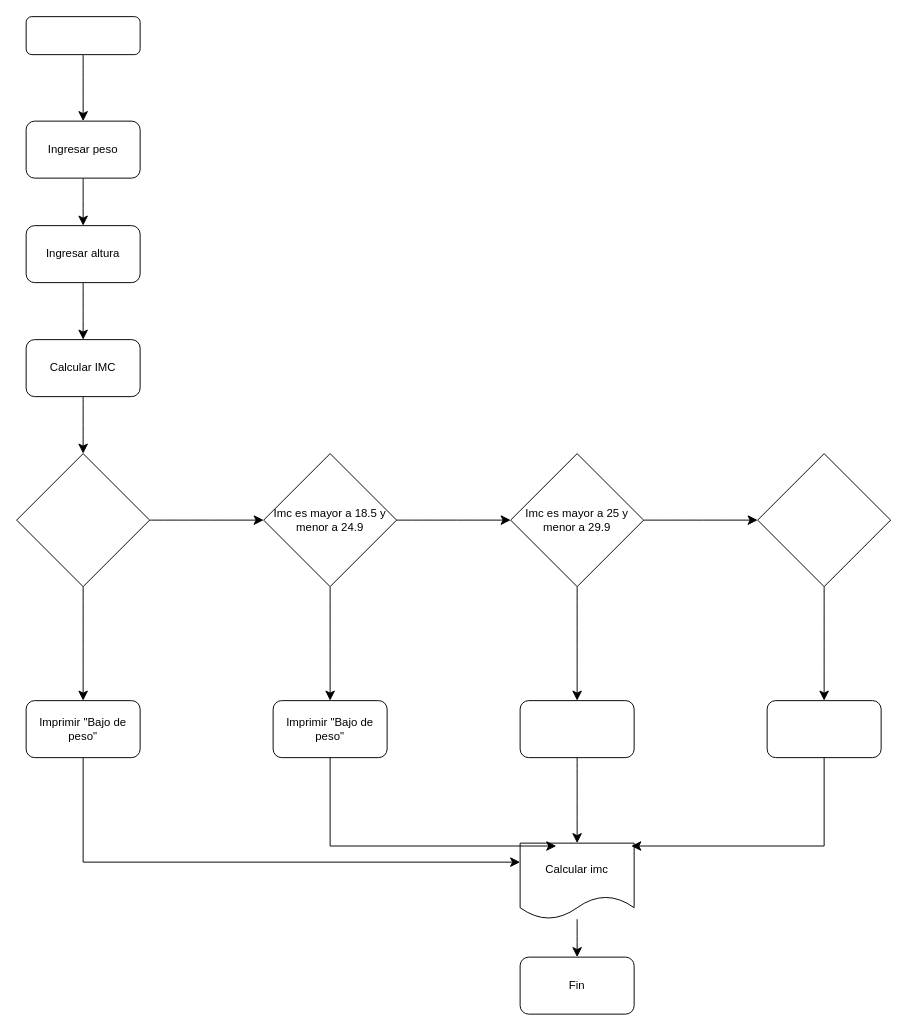
Image size: 907x1031. Some labels were removed from this diagram. Each missing label, with the box of its shape:
Imc es mayor a 30: (757, 453, 891, 587)
Imc es menor a 18.5: (16, 453, 150, 587)
Imprimir "Obesidad": (766, 700, 881, 758)
Imprimir "Sobrepeso": (519, 700, 634, 758)
Inicio: (25, 16, 140, 55)
